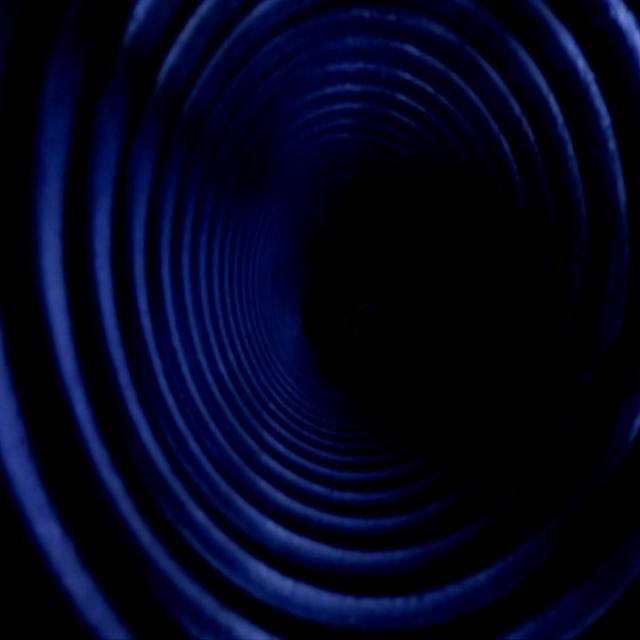leaf: (300, 262, 376, 358)
